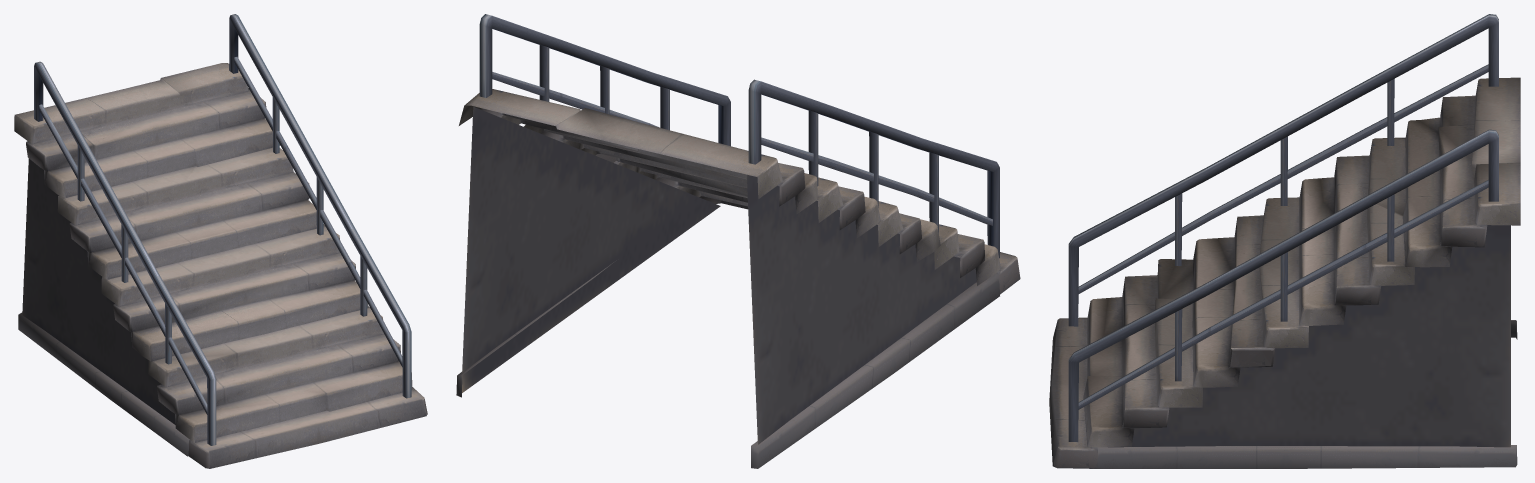
File: hbxz_wj008_03.FBX
The picture shows the model from 3 angles, left to right: view 1: azimuth 30°, elevation 25°; view 2: azimuth 150°, elevation 25°; view 3: azimuth 270°, elevation 25°; orthographic projection. The views are drawn at different scales.
Visible parts, largest first — view 1: hbxz_wj008_03; view 2: hbxz_wj008_03; view 3: hbxz_wj008_03.
Part boxes in pixels (bbox=[...]): hbxz_wj008_03: bbox=[14, 14, 427, 468]; hbxz_wj008_03: bbox=[456, 14, 1020, 468]; hbxz_wj008_03: bbox=[1049, 14, 1520, 468].
Bounding box in the file's own units: 371 × 421 × 547.
